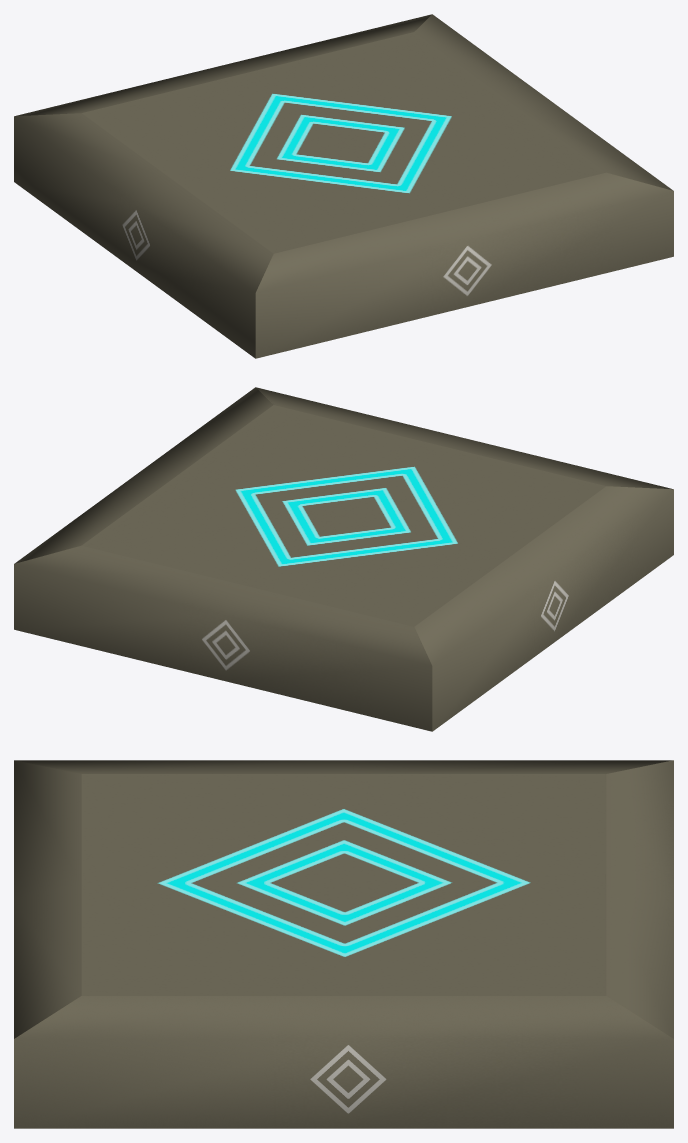
Rendered from button_FBX.fbx.
3 renders of one model, top to bottom at view 1: azimuth 30°, elevation 25°; view 2: azimuth 150°, elevation 25°; view 3: azimuth 270°, elevation 25°, orthographic. The views are drawn at different scales.
Parts seen in each view (by area): view 1: Box001; view 2: Box001; view 3: Box001.
Part boxes in pixels (x1,y1,x2,y2): Box001: (14,14,673,358); Box001: (14,387,673,731); Box001: (14,760,673,1128).
Bounding box in the file's own units: 40 × 6.98 × 40.
